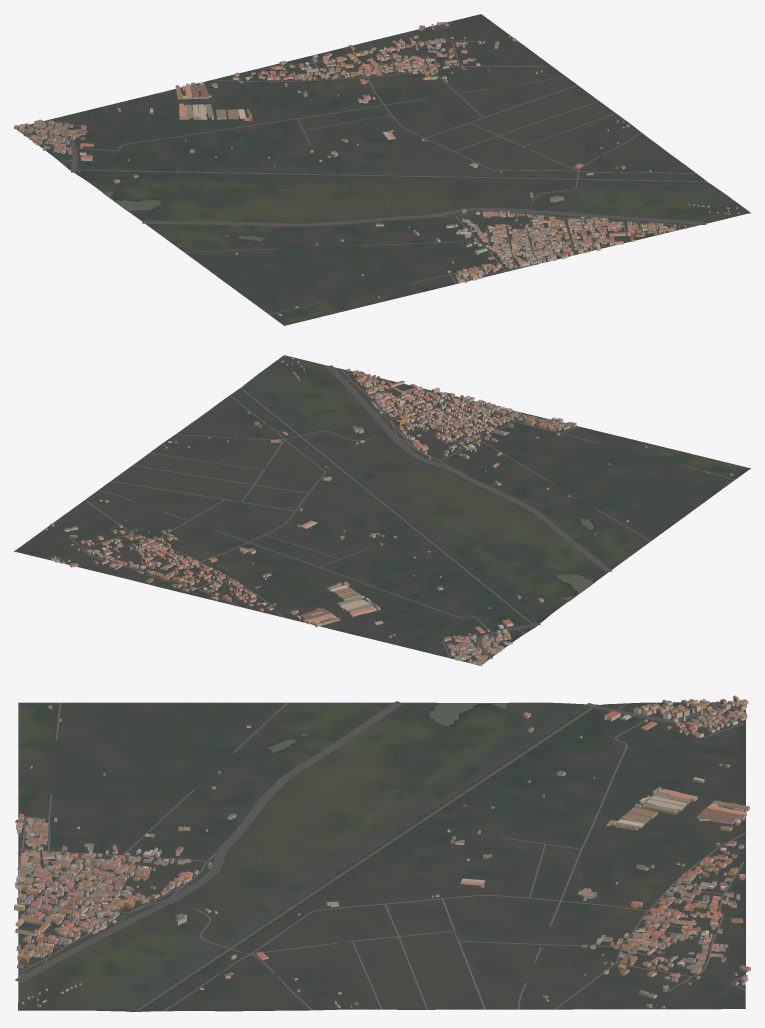
3 renders of one model, top to bottom at view 1: azimuth 30°, elevation 25°; view 2: azimuth 150°, elevation 25°; view 3: azimuth 270°, elevation 25°, orthographic. The views are drawn at different scales.
Parts seen in each view (by area): view 1: ground, buildings, roads, water; view 2: ground, buildings, roads, water; view 3: ground, buildings, roads, water.
Boxes of the visible parts, left/top/right/bottom form: ground: left=17, top=14, right=750, bottom=325; buildings: left=14, top=22, right=739, bottom=315; roads: left=22, top=21, right=706, bottom=314; water: left=69, top=169, right=707, bottom=241; ground: left=14, top=355, right=750, bottom=664; buildings: left=45, top=357, right=733, bottom=665; roads: left=43, top=365, right=734, bottom=661; water: left=239, top=387, right=597, bottom=626; ground: left=18, top=702, right=745, bottom=1011; buildings: left=14, top=695, right=750, bottom=1008; roads: left=15, top=701, right=746, bottom=1011; water: left=135, top=703, right=598, bottom=1011.
Bounding box in the file's own units: 1408 × 22.91 × 1420.
